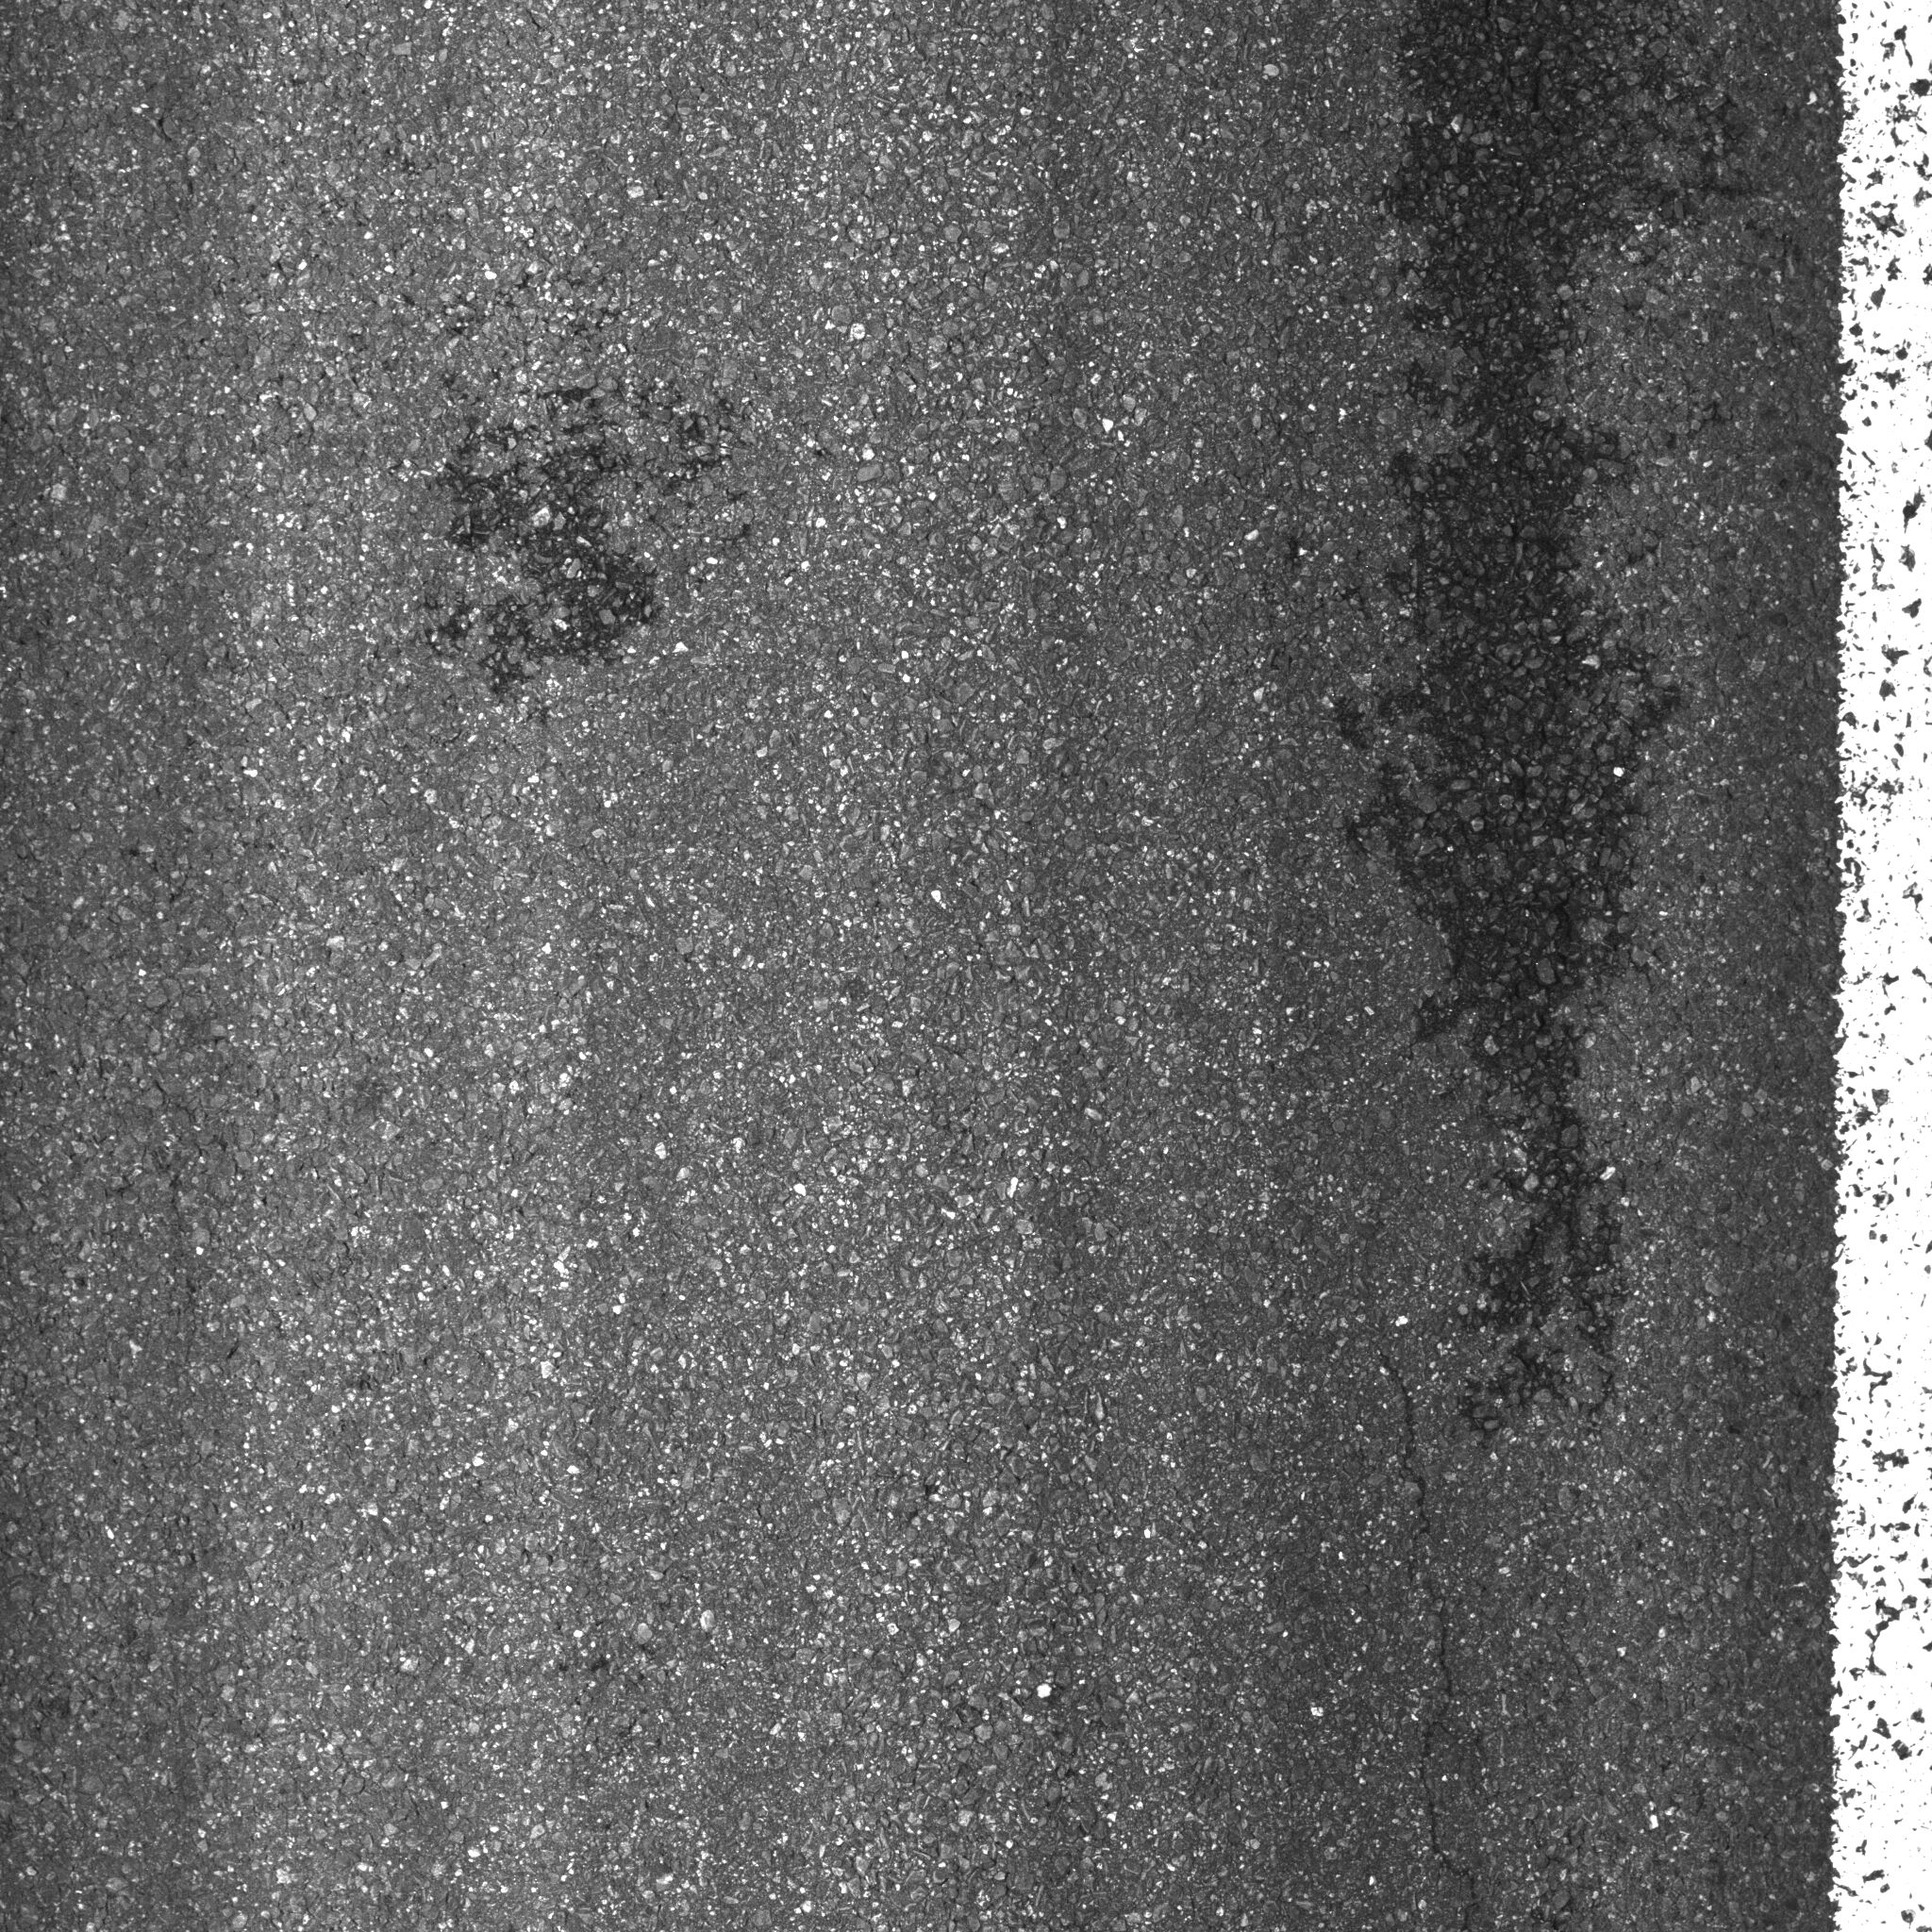longitudinal: (1339, 1267, 1509, 1911)
